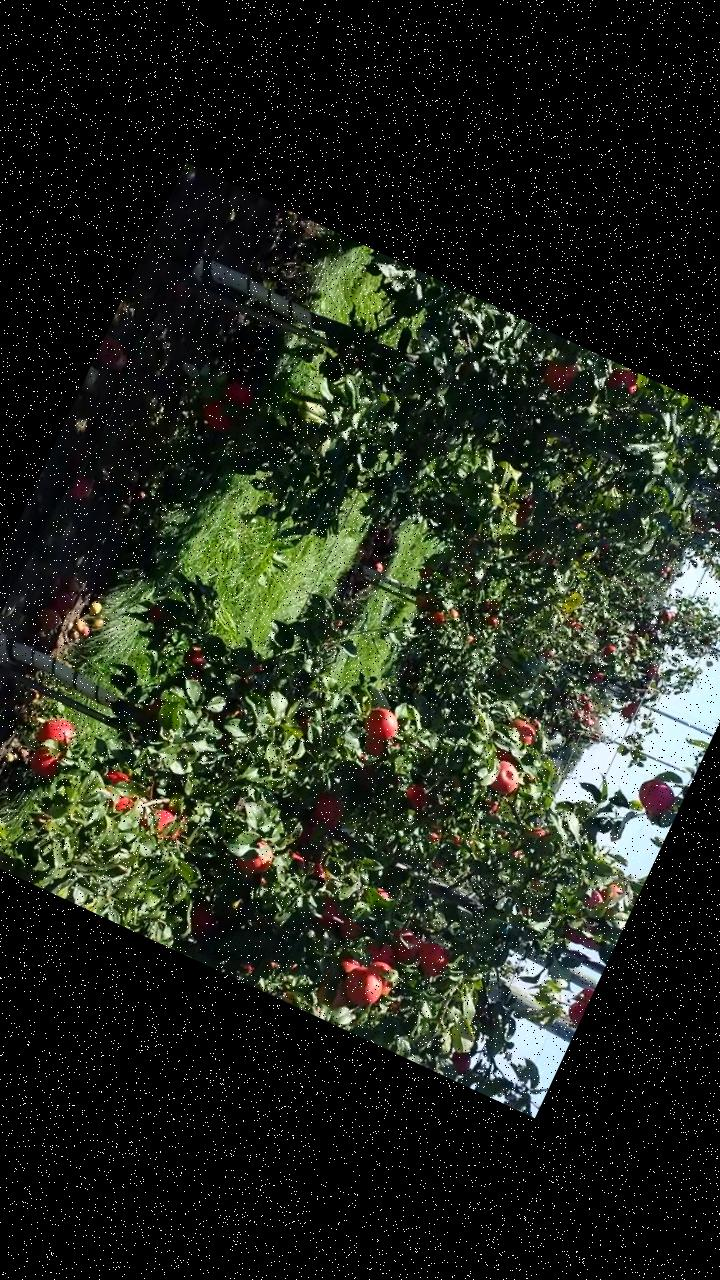Apple: (340, 960, 390, 1010), (310, 966, 358, 1016), (537, 350, 585, 398), (31, 710, 78, 756), (632, 773, 680, 818), (138, 801, 187, 844), (197, 392, 244, 436), (235, 833, 279, 879), (361, 701, 406, 744), (410, 938, 454, 981), (308, 789, 350, 832), (216, 374, 260, 414), (389, 925, 429, 968), (488, 758, 526, 799), (22, 744, 61, 783), (362, 958, 400, 998), (362, 935, 402, 972), (184, 901, 218, 935), (505, 715, 541, 747), (606, 364, 642, 396), (312, 896, 344, 929), (181, 640, 212, 672), (333, 912, 366, 942), (138, 694, 168, 727), (446, 1046, 476, 1078), (360, 730, 391, 760), (239, 864, 272, 892), (510, 491, 536, 526), (598, 878, 628, 908), (402, 782, 433, 810), (491, 746, 526, 770), (333, 953, 362, 981), (579, 886, 606, 913), (564, 926, 594, 950), (526, 820, 556, 844), (103, 766, 132, 789), (564, 997, 587, 1025), (113, 791, 137, 815), (145, 598, 168, 622), (370, 882, 396, 903), (577, 982, 595, 1009), (286, 849, 309, 870), (308, 860, 332, 880), (582, 936, 602, 951)
